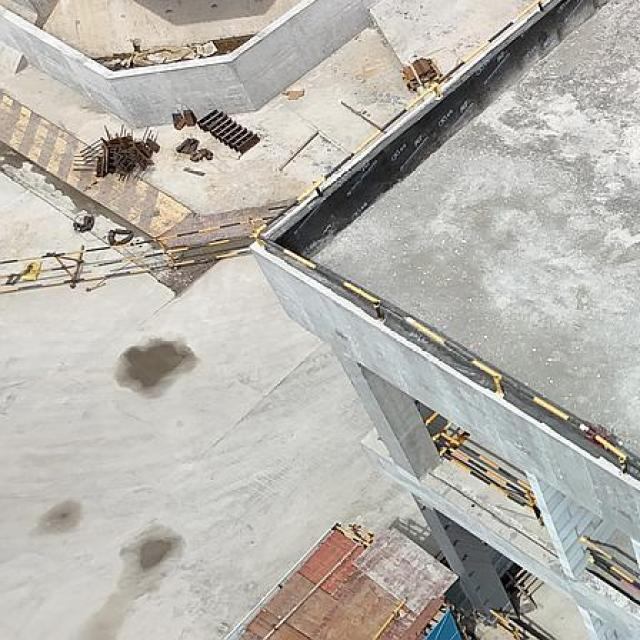Guardrail: (247, 0, 640, 477), (424, 411, 544, 526), (580, 534, 640, 592)
